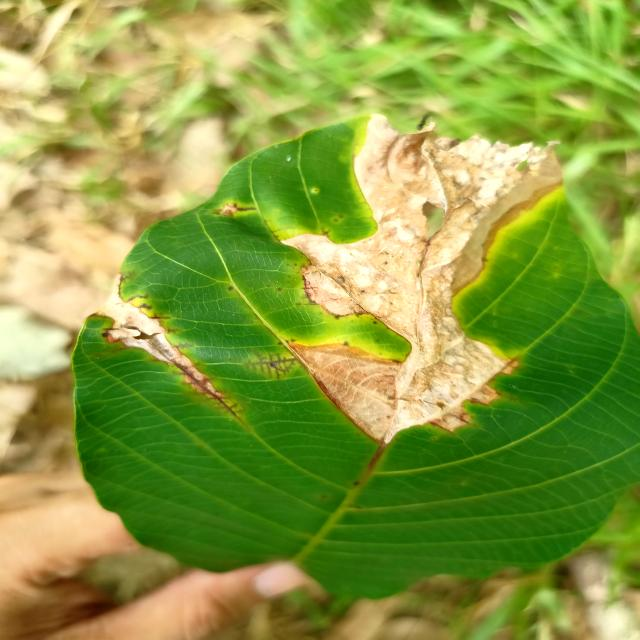Corynespora: (87, 272, 245, 424), (240, 350, 297, 380)
Leaf-Blight: (279, 115, 564, 444)
